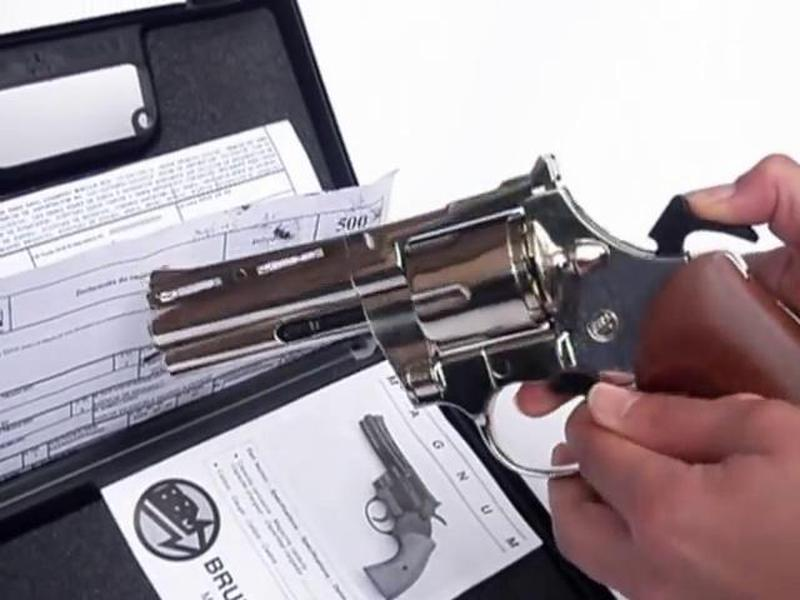Revolver: (127, 141, 720, 500)
